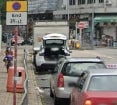End Of No Stopping: (6, 1, 27, 27)
